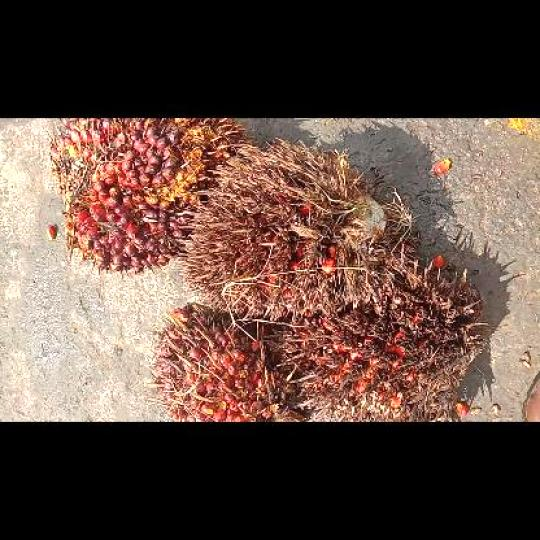masak: (46, 118, 258, 279), (145, 301, 294, 421)
terlalu masak: (175, 137, 409, 320), (265, 260, 485, 420)
